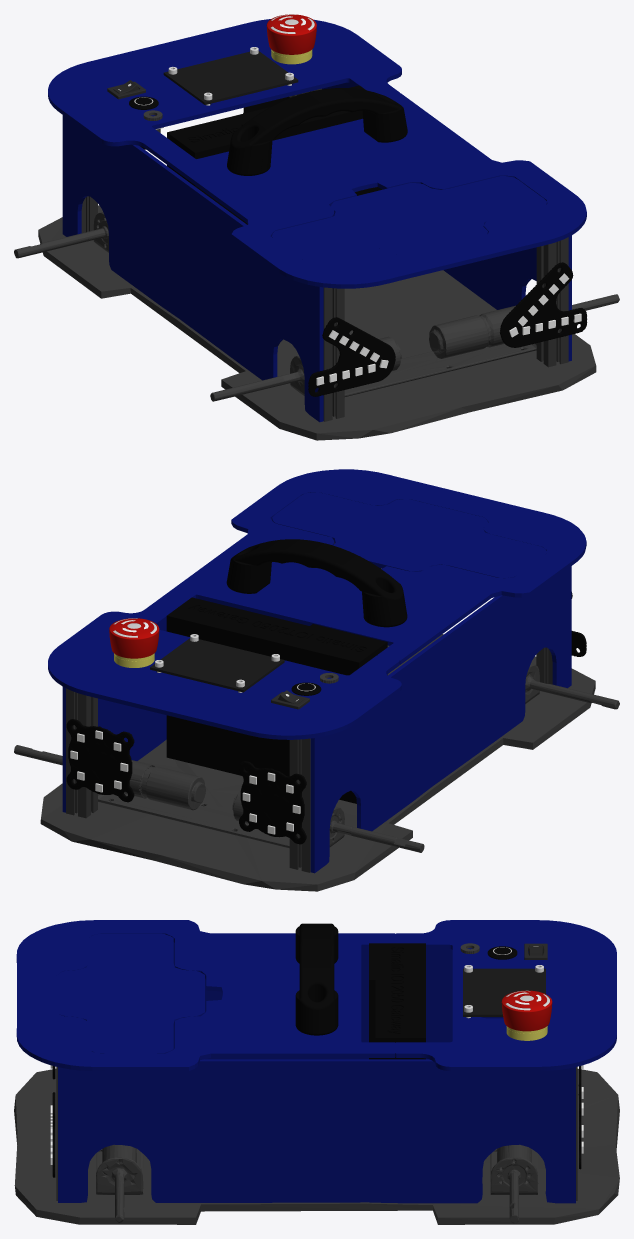
Rendered from eduard-blue-chassis.dae.
3 views of the same model, one above another, from view 1: azimuth 30°, elevation 25°; view 2: azimuth 150°, elevation 25°; view 3: azimuth 270°, elevation 25° (orthographic).
Visible parts, largest first — view 1: Körper1.064, Körper1.004, Körper1.025, Körper1.063, Körper1.056, Körper1.005, Körper1.062, Körper1, Körper1.002, Körper1.053, Körper1.050, Körper1.084 (+4 smaller); view 2: Körper1.004, Körper1.064, Körper1.025, Körper1.063, Körper1.053, Körper1.056, Körper1.027, Körper1.062, Körper1, Körper1.087, Körper1.054, Körper1.002 (+4 smaller); view 3: Körper1.002, Körper1.064, Körper1.025, Körper1.063, Körper1.056, Körper1.053, Körper1.062, Körper1.004, Körper1, Körper1.027, Körper1.005, Körper10.
Part boxes in pixels (bbox=[...]): Körper1.064: bbox=[156, 93, 586, 288]; Körper1.004: bbox=[62, 115, 323, 422]; Körper1.025: bbox=[38, 205, 596, 440]; Körper1.063: bbox=[48, 19, 401, 156]; Körper1.056: bbox=[271, 176, 546, 261]; Körper1.005: bbox=[210, 294, 619, 401]; Körper1.062: bbox=[227, 88, 407, 175]; Körper1: bbox=[163, 51, 298, 104]; Körper1.002: bbox=[322, 82, 571, 361]; Körper1.053: bbox=[167, 85, 381, 224]; Körper1.050: bbox=[500, 262, 587, 347]; Körper1.084: bbox=[308, 317, 395, 396]; Körper1.004: bbox=[310, 566, 571, 873]; Körper1.064: bbox=[156, 469, 586, 664]; Körper1.025: bbox=[40, 634, 595, 891]; Körper1.063: bbox=[48, 601, 401, 739]; Körper1.053: bbox=[166, 597, 387, 803]; Körper1.056: bbox=[272, 492, 546, 578]; Körper1.027: bbox=[14, 745, 424, 852]; Körper1.062: bbox=[226, 539, 407, 627]; Körper1: bbox=[150, 638, 284, 692]; Körper1.087: bbox=[66, 719, 134, 802]; Körper1.054: bbox=[239, 761, 306, 844]; Körper1.002: bbox=[62, 620, 166, 812]; Körper1.002: bbox=[58, 1059, 575, 1203]; Körper1.064: bbox=[16, 920, 394, 1071]; Körper1.025: bbox=[14, 1068, 619, 1224]; Körper1.063: bbox=[395, 920, 616, 1071]; Körper1.056: bbox=[56, 933, 204, 1053]; Körper1.053: bbox=[369, 943, 425, 1059]; Körper1.062: bbox=[295, 923, 338, 1035]; Körper1.004: bbox=[173, 942, 503, 1059]; Körper1: bbox=[463, 968, 545, 1016]; Körper1.027: bbox=[490, 1144, 538, 1223]; Körper1.005: bbox=[96, 1144, 143, 1222]; Körper10: bbox=[501, 990, 552, 1031].
Size of the model in its own units: 0.2996 by 0.3837 by 0.1461.
